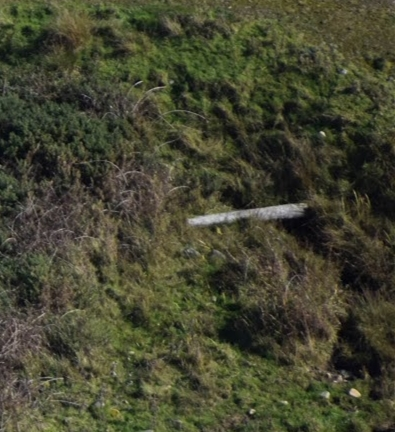straight_bar: (176, 194, 316, 236)
